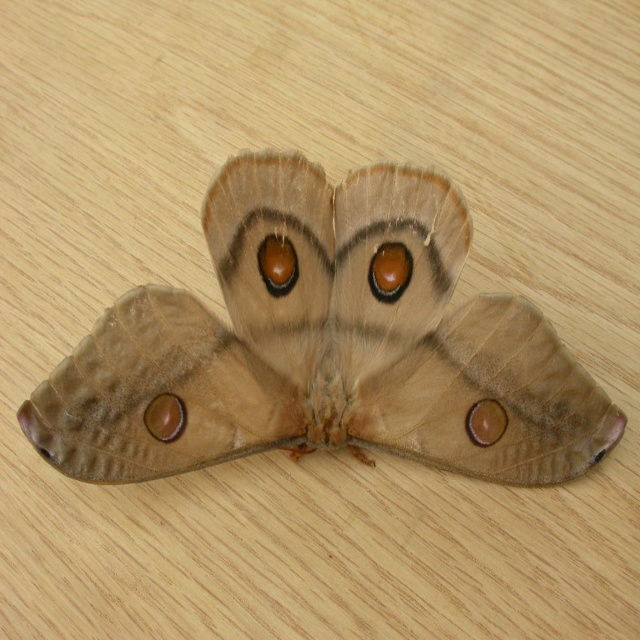Moths and butterflies: (16, 146, 628, 492)
